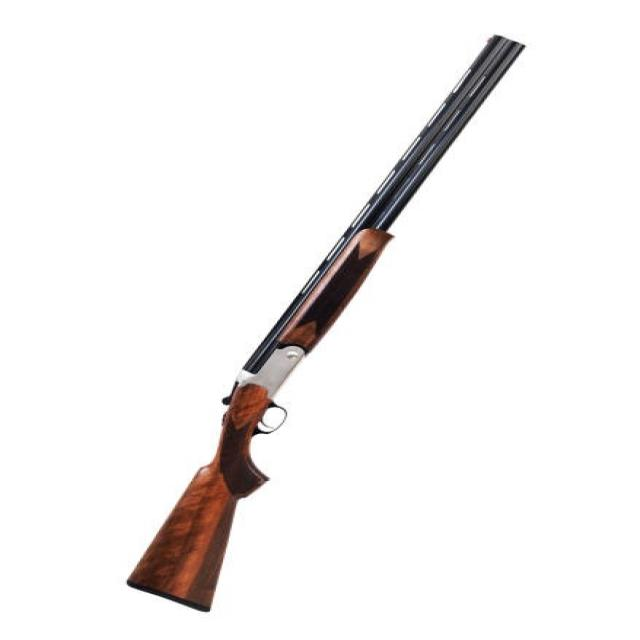rifle: (117, 24, 537, 626)
